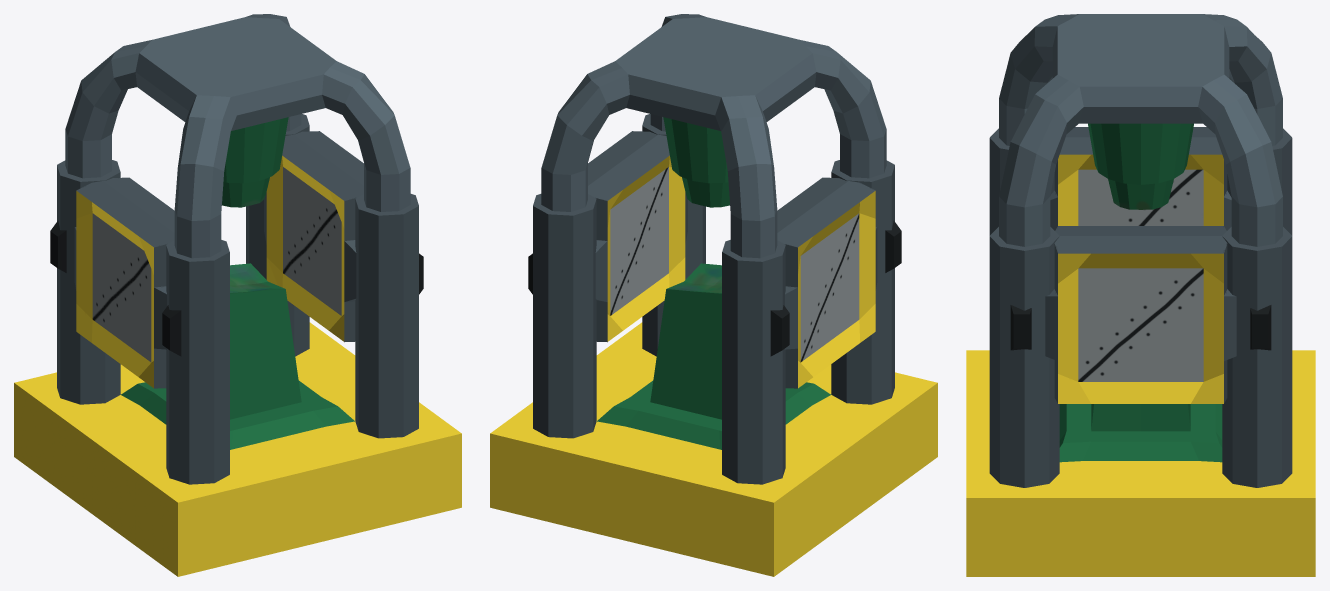
The model's file is CrusherWTextures.fbx.
3 views of the same model, side by side, from view 1: azimuth 30°, elevation 25°; view 2: azimuth 150°, elevation 25°; view 3: azimuth 270°, elevation 25° (orthographic). The views are drawn at different scales.
Visible parts, largest first — view 1: Base, Input, Output; view 2: Base, Input, Output; view 3: Base, Output, Input.
Boxes of the visible parts, x1,y1,x2,y2 form: Base: (14,14,461,576); Input: (50,177,181,388); Output: (264,131,423,342); Base: (490,14,937,576); Input: (770,177,901,388); Output: (528,131,687,342); Base: (966,14,1315,576); Output: (1010,226,1271,403); Input: (1050,127,1231,230).
Size of the model in its own units: 100 by 143 by 100.
Materials: 2 (2 with a texture image).
